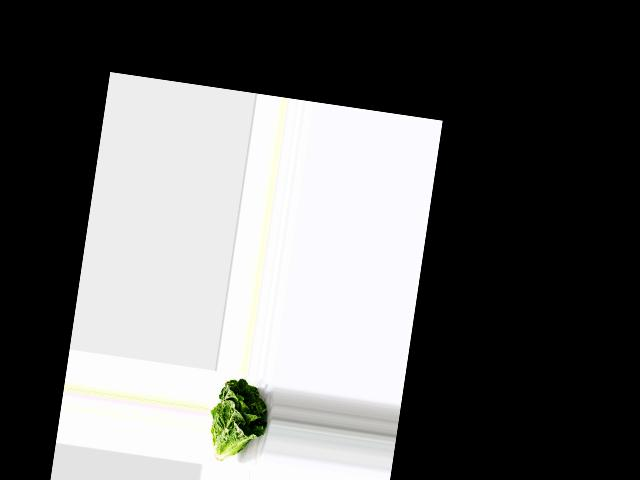lettuce: (203, 376, 273, 465)
